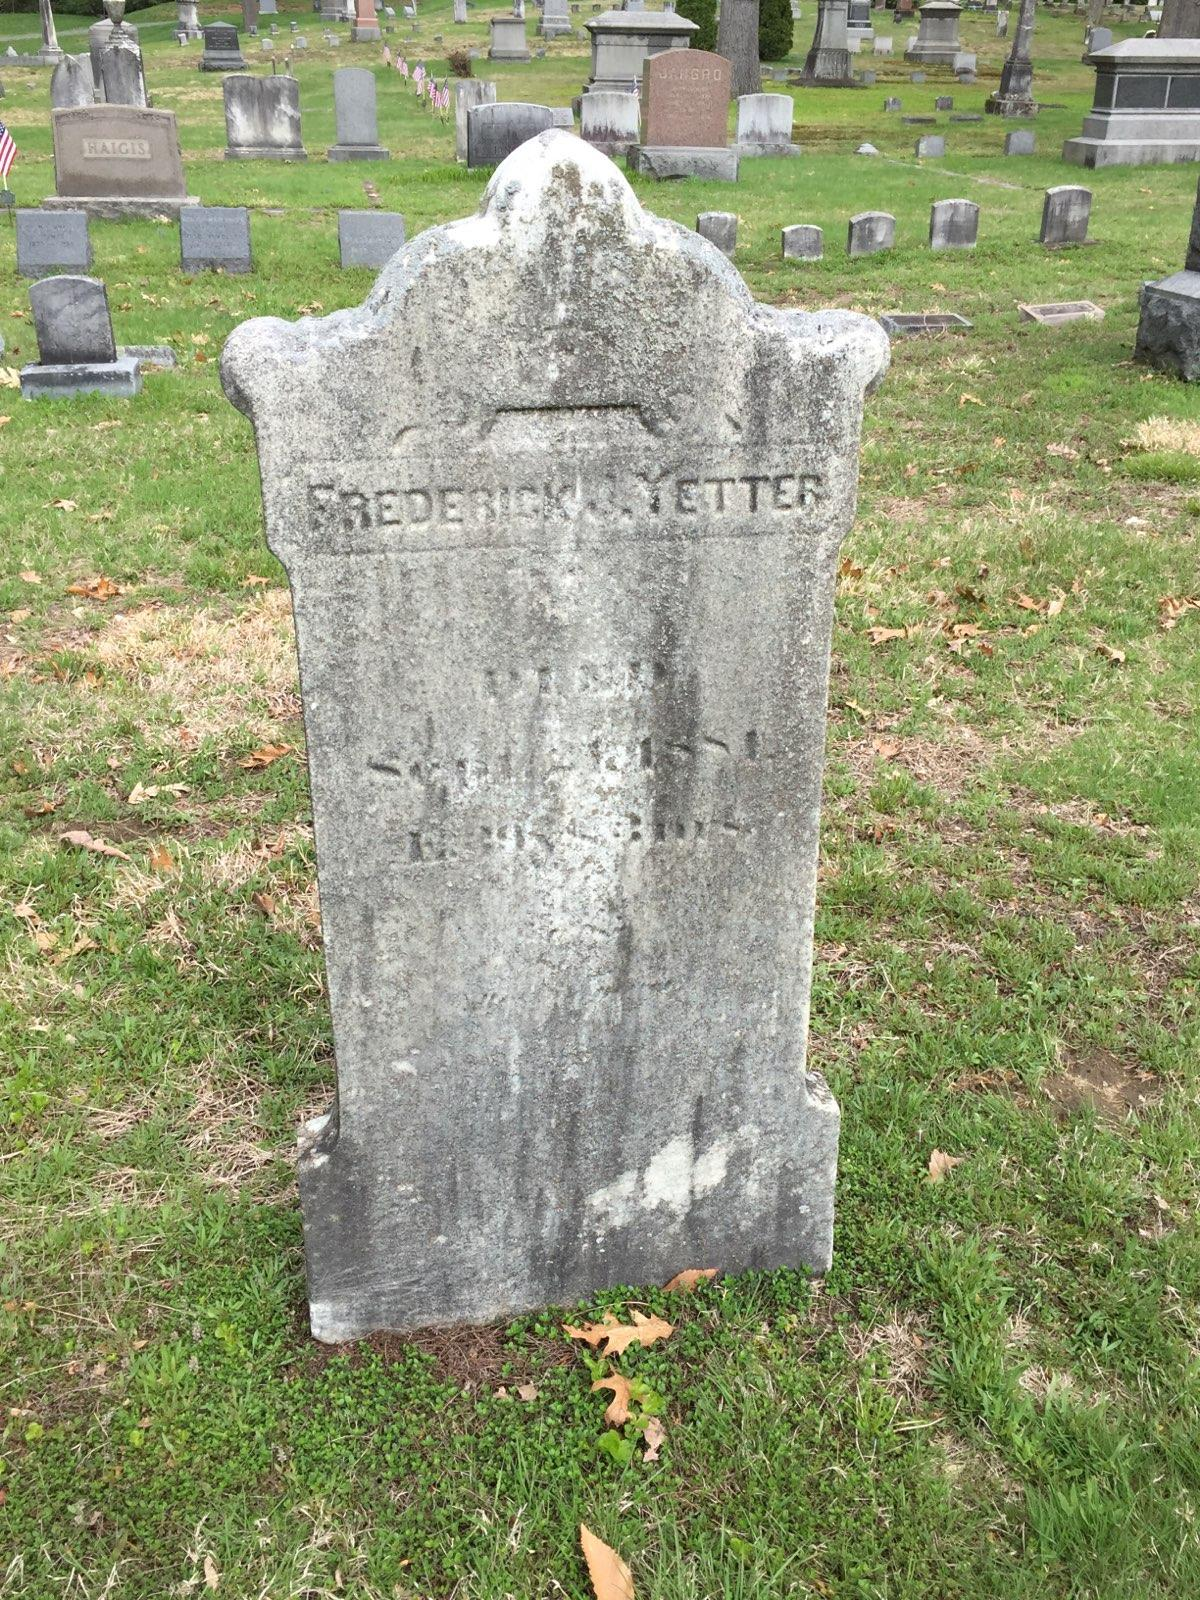upright: (221, 141, 892, 1342)
